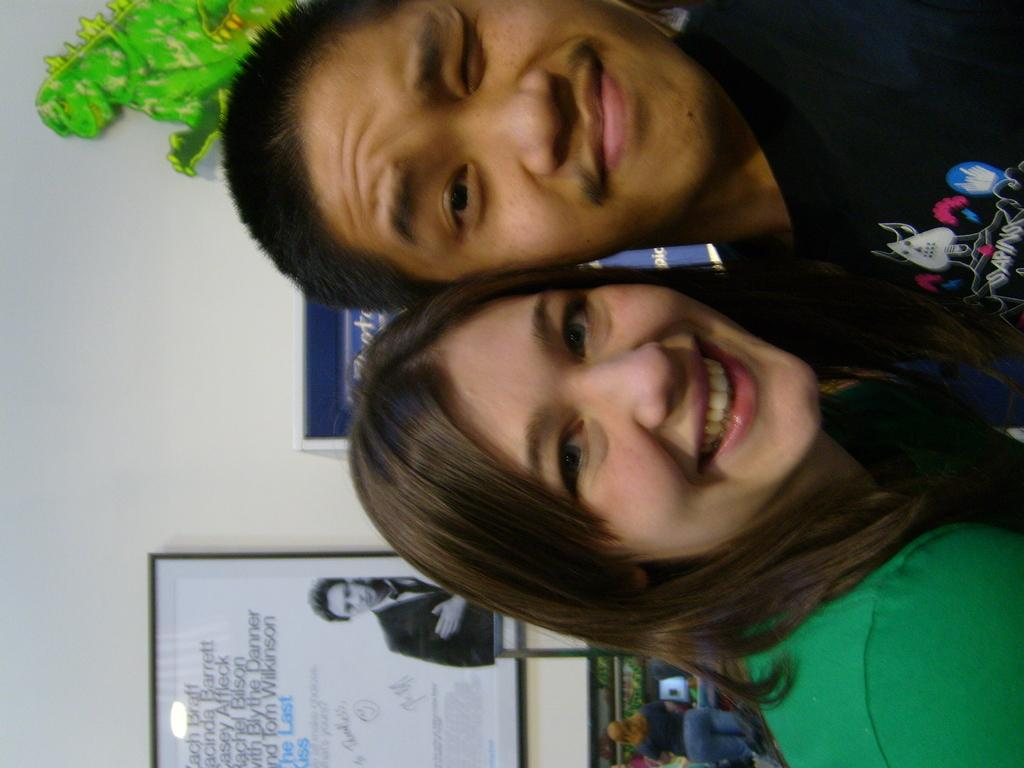Sem Máscara: (294, 0, 711, 281), (431, 283, 820, 552)
